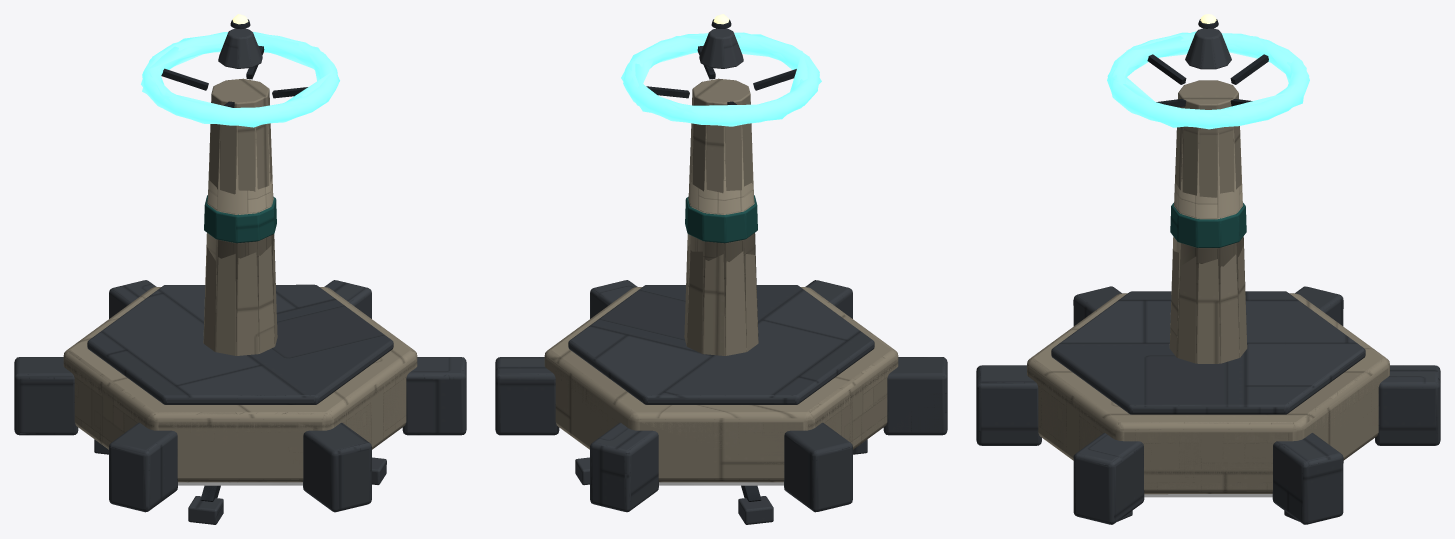
Rendered from place_lane_pin.glb.
3 renders of one model, left to right at view 1: azimuth 30°, elevation 25°; view 2: azimuth 150°, elevation 25°; view 3: azimuth 270°, elevation 25°, orthographic. The views are drawn at different scales.
Parts seen in each view (by area): view 1: LOD0_Armor, LOD0_Hull, LOD1_Hull, LOD0_ANIM_blink_4p0_0p0_Halo, LOD2_Hull, LOD1_Armor, LOD2_ANIM_blink_4p0_0p0_Halo, LOD0_Livery, LOD1_ANIM_blink_4p0_0p0_Halo, LOD0_Mechanical, LOD1_Mechanical; view 2: LOD0_Armor, LOD0_Hull, LOD1_Hull, LOD0_ANIM_blink_4p0_0p0_Halo, LOD2_Hull, LOD1_Armor, LOD1_ANIM_blink_4p0_0p0_Halo, LOD0_Livery, LOD2_ANIM_blink_4p0_0p0_Halo, LOD0_Mechanical, LOD1_Mechanical; view 3: LOD0_Armor, LOD0_Hull, LOD1_Hull, LOD0_ANIM_blink_4p0_0p0_Halo, LOD2_Hull, LOD1_Armor, LOD1_ANIM_blink_4p0_0p0_Halo, LOD0_Livery, LOD2_ANIM_blink_4p0_0p0_Halo, LOD0_Mechanical.
Boxes of the visible parts, bbox=[...] form: LOD0_Armor: bbox=[14, 28, 466, 524]; LOD0_Hull: bbox=[63, 79, 417, 481]; LOD1_Hull: bbox=[63, 78, 417, 482]; LOD0_ANIM_blink_4p0_0p0_Halo: bbox=[142, 33, 338, 125]; LOD2_Hull: bbox=[64, 86, 416, 479]; LOD1_Armor: bbox=[14, 31, 466, 524]; LOD2_ANIM_blink_4p0_0p0_Halo: bbox=[142, 33, 333, 127]; LOD0_Livery: bbox=[204, 195, 276, 242]; LOD1_ANIM_blink_4p0_0p0_Halo: bbox=[141, 32, 339, 124]; LOD0_Mechanical: bbox=[161, 19, 307, 501]; LOD1_Mechanical: bbox=[162, 20, 302, 501]; LOD0_Armor: bbox=[495, 28, 947, 524]; LOD0_Hull: bbox=[544, 79, 898, 482]; LOD1_Hull: bbox=[544, 78, 898, 470]; LOD0_ANIM_blink_4p0_0p0_Halo: bbox=[623, 33, 819, 125]; LOD2_Hull: bbox=[545, 82, 897, 479]; LOD1_Armor: bbox=[495, 31, 947, 524]; LOD1_ANIM_blink_4p0_0p0_Halo: bbox=[623, 32, 819, 126]; LOD0_Livery: bbox=[685, 195, 757, 242]; LOD2_ANIM_blink_4p0_0p0_Halo: bbox=[621, 34, 821, 122]; LOD0_Mechanical: bbox=[646, 19, 796, 501]; LOD1_Mechanical: bbox=[648, 20, 796, 501]; LOD0_Armor: bbox=[976, 28, 1440, 524]; LOD0_Hull: bbox=[1027, 80, 1389, 493]; LOD1_Hull: bbox=[1027, 95, 1389, 489]; LOD0_ANIM_blink_4p0_0p0_Halo: bbox=[1107, 33, 1309, 127]; LOD2_Hull: bbox=[1027, 85, 1389, 494]; LOD1_Armor: bbox=[976, 30, 1440, 524]; LOD1_ANIM_blink_4p0_0p0_Halo: bbox=[1107, 32, 1309, 129]; LOD0_Livery: bbox=[1170, 203, 1246, 247]; LOD2_ANIM_blink_4p0_0p0_Halo: bbox=[1110, 31, 1306, 127]; LOD0_Mechanical: bbox=[1147, 19, 1268, 107].
Size of what is drawn, in the model's own units: 9.64 by 11.62 by 10.6.
Materials: 13 (10 with a texture image).
